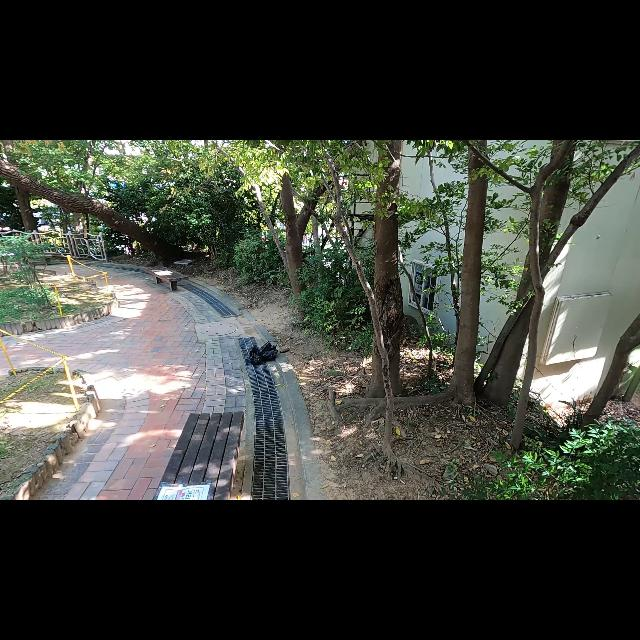trash: (260, 341, 278, 362), (249, 344, 263, 366)
